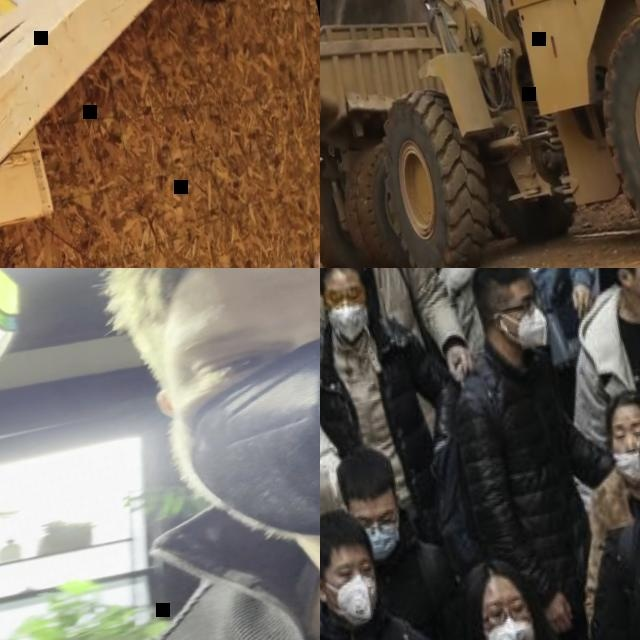Mask: (171, 290, 320, 570), (320, 573, 386, 633), (325, 299, 373, 348), (509, 307, 553, 360), (362, 516, 407, 563), (483, 614, 542, 640), (611, 450, 640, 488)
NO-Hardhat: (332, 442, 401, 509), (320, 507, 370, 570), (463, 552, 523, 603), (464, 268, 534, 300), (608, 386, 640, 424), (320, 268, 368, 289)
NO-Mask: (628, 275, 640, 311)
NO-Safety Vest: (99, 479, 320, 640), (463, 354, 594, 590), (588, 299, 640, 472), (372, 537, 457, 640), (609, 507, 640, 640), (591, 486, 640, 544)
Person: (4, 268, 320, 640), (415, 268, 640, 640), (320, 268, 480, 552), (327, 433, 476, 640), (523, 268, 640, 525), (320, 268, 471, 460), (537, 383, 640, 640), (320, 283, 390, 640), (416, 268, 616, 384), (548, 414, 640, 640), (320, 494, 453, 640), (424, 538, 582, 640)
machinery: (320, 0, 640, 268), (320, 0, 501, 268)
